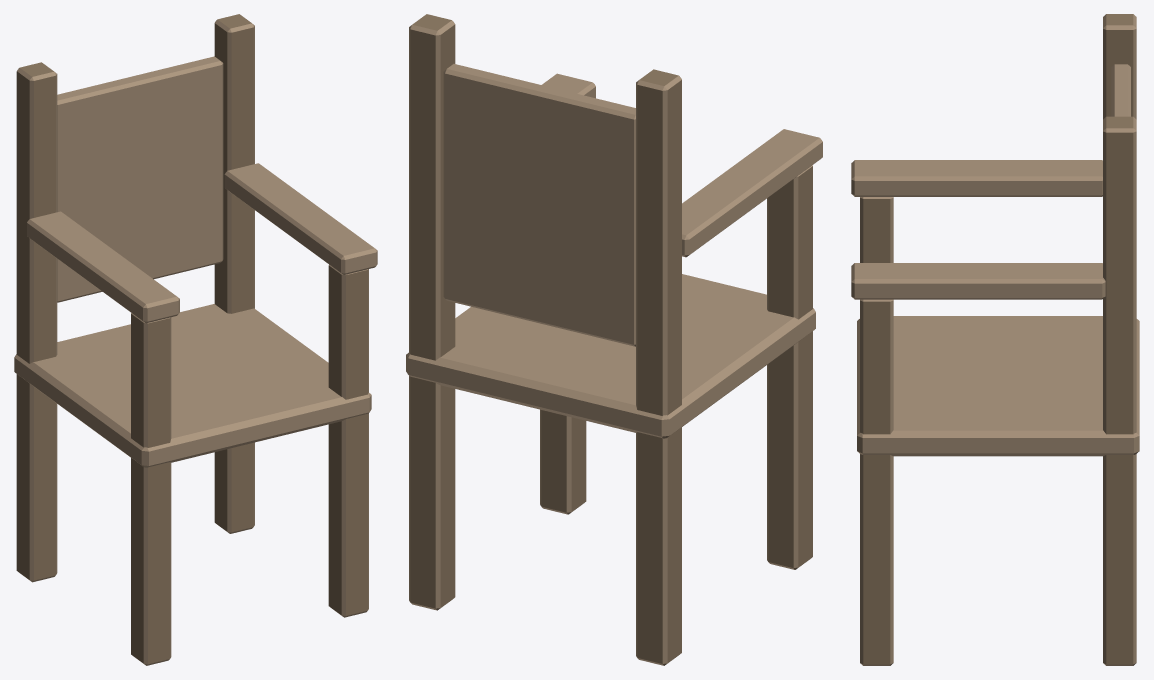
Rendered from chair_2.glb.
3 views of the same model, side by side, from view 1: azimuth 30°, elevation 25°; view 2: azimuth 150°, elevation 25°; view 3: azimuth 270°, elevation 25° (orthographic). The views are drawn at different scales.
Parts seen in each view (by area): view 1: Chair_2; view 2: Chair_2; view 3: Chair_2.
Part boxes in pixels (x1,y1,x2,y2): Chair_2: (14,14,377,665); Chair_2: (406,14,822,665); Chair_2: (851,14,1139,665).
Size of the model in its own units: 0.51 by 1.05 by 0.51.
